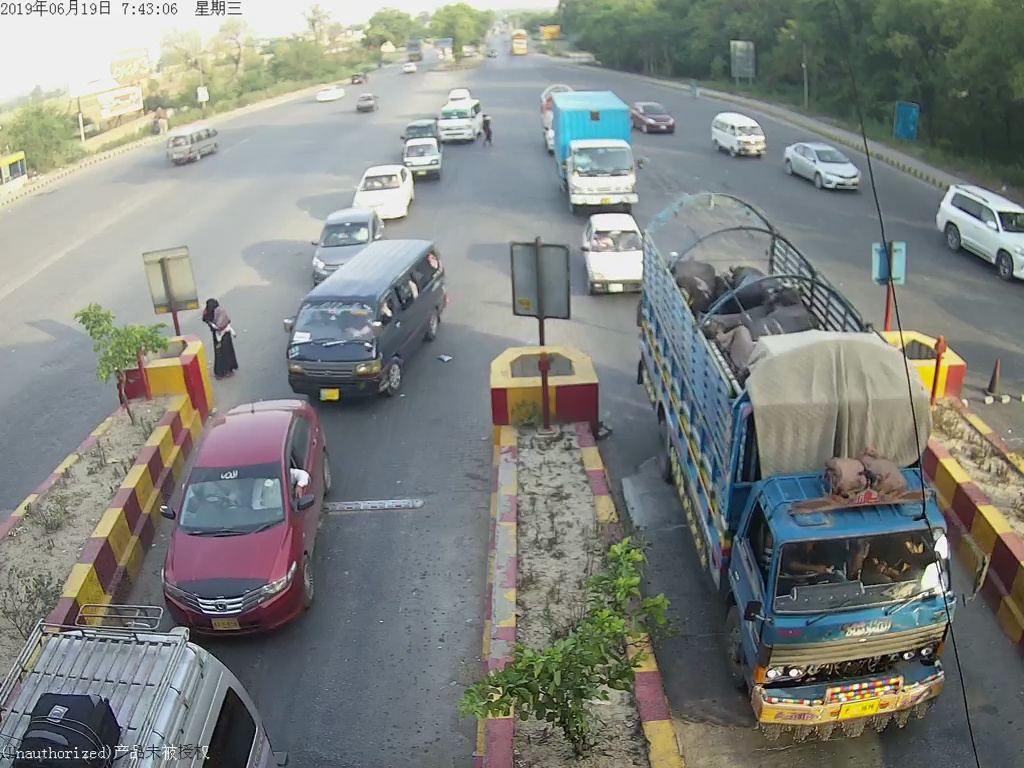Cat-1: (153, 392, 338, 627), (584, 220, 643, 297), (356, 166, 414, 219)
Cat-2: (287, 261, 450, 383)
Cat-4: (629, 186, 976, 743)
